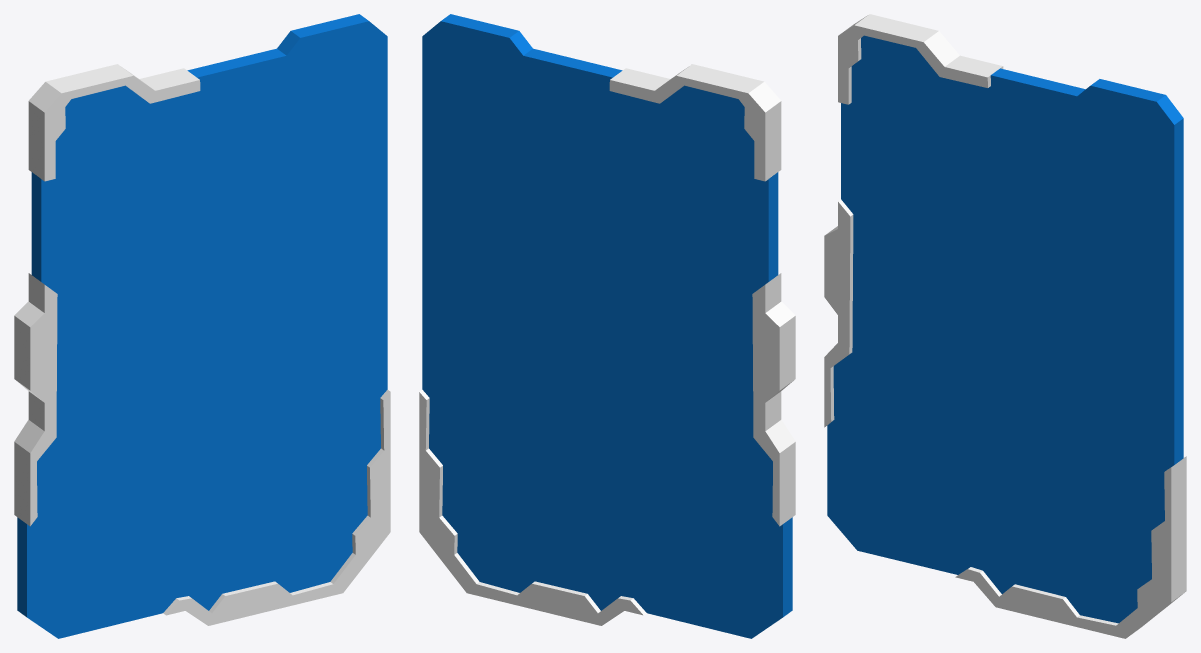
File: Card.fbx
3 views of the same model, side by side, from view 1: azimuth 30°, elevation 25°; view 2: azimuth 150°, elevation 25°; view 3: azimuth 330°, elevation 25° (orthographic). The views are drawn at different scales.
Visible parts, largest first — view 1: Cube; view 2: Cube; view 3: Cube.
Boxes of the visible parts, left/top/right/bottom form: Cube: left=14, top=14, right=390, bottom=638; Cube: left=419, top=14, right=795, bottom=638; Cube: left=824, top=14, right=1186, bottom=638.
Size of the model in its own units: 19.65 by 29.62 by 1.52.
